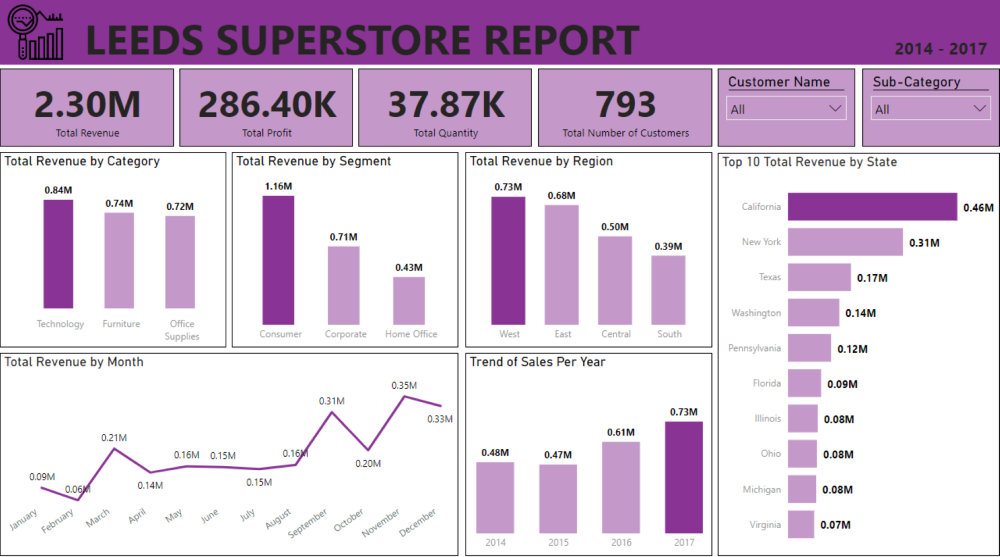

What the dashboard file says about the page in this screenshot:
{"tool":"powerbi","page":{"name":"Page 1","canvas":[1280,720],"ordinal":0},"visuals":[{"type":"card","fields":{"Values":["Sum(Superstore.Revenue)"]},"box":[0,88.4,222.6,99.1],"z":0},{"type":"clusteredColumnChart","title":"Total Revenue by Category","fields":{"Y":["Sum(Superstore.Revenue)"],"Category":["Superstore.Category"]},"box":[0,195.4,289.6,249.8],"z":1000},{"type":"clusteredColumnChart","title":"Total Revenue by Region","fields":{"Category":["Superstore.Region"],"Y":["Sum(Superstore.Revenue)"]},"box":[595.8,195.4,315.9,249.8],"z":2000},{"type":"card","fields":{"Values":["Sum(Superstore.Profit)"]},"box":[230.3,88.4,221.6,99.1],"z":3000},{"type":"card","fields":{"Values":["Sum(Superstore.Quantity)"]},"box":[458.7,88.4,222.6,99.1],"z":4000},{"type":"clusteredColumnChart","fields":{"Y":["Sum(Superstore.Revenue)"],"Category":["Superstore.Segment"]},"box":[297.4,195.4,289.6,249.8],"z":5000},{"type":"shape","box":[0,0,1280,82.8],"z":6000},{"type":"lineChart","fields":{"Y":["Sum(Superstore.Revenue)"],"Category":["Superstore.Order Date.Variation.Date Hierarchy.Month"]},"box":[0,451.9,587,260.5],"z":7000},{"type":"slicer","fields":{"Values":["Superstore.Customer Name"]},"box":[919.4,88.4,175.9,99.1],"z":8000},{"type":"slicer","fields":{"Values":["Superstore.Sub-Category"]},"box":[1104.1,88.4,175.9,99.1],"z":9000},{"type":"textbox","box":[104,6.8,863.1,81.6],"z":10000},{"type":"clusteredColumnChart","title":"Trend of Sales Per Year","fields":{"Y":["Sum(Superstore.Revenue)"],"Category":["Superstore.Order Date.Variation.Date Hierarchy.Year"]},"box":[595.8,451.9,315.9,260.5],"z":11000},{"type":"image","box":[0,0,92.3,82.8],"z":12000},{"type":"clusteredBarChart","title":"Top 10 Total Revenue by State","fields":{"Y":["Sum(Superstore.Revenue)"],"Category":["Superstore.State"]},"box":[919.4,196.3,360.6,516.1],"z":13000},{"type":"card","fields":{"Values":["Count(Superstore.Customer Name)"]},"box":[689.1,88.4,222.6,99.1],"z":14000},{"type":"textbox","box":[1141,41.8,139,39.8],"z":14001}]}

Visuals, with their boxes in screenshot pixels (x1, y1, x2, y2), scaled from the page's 1280x720 canvas onto the 1000x557 screenshot:
card - Sum(Superstore.Revenue): [0,68,174,145]
"Total Revenue by Category" clusteredColumnChart: [0,151,226,344]
"Total Revenue by Region" clusteredColumnChart: [465,151,712,344]
card - Sum(Superstore.Profit): [180,68,353,145]
card - Sum(Superstore.Quantity): [358,68,532,145]
clusteredColumnChart - Sum(Superstore.Revenue) x Superstore.Segment: [232,151,459,344]
shape: [0,0,999,64]
lineChart - Sum(Superstore.Revenue) x Superstore.Order Date.Variation.Date Hierarchy.Month: [0,350,459,551]
slicer - Superstore.Customer Name: [718,68,856,145]
slicer - Superstore.Sub-Category: [863,68,999,145]
textbox: [81,5,756,68]
"Trend of Sales Per Year" clusteredColumnChart: [465,350,712,551]
image: [0,0,72,64]
"Top 10 Total Revenue by State" clusteredBarChart: [718,152,999,551]
card - Count(Superstore.Customer Name): [538,68,712,145]
textbox: [891,32,999,63]
